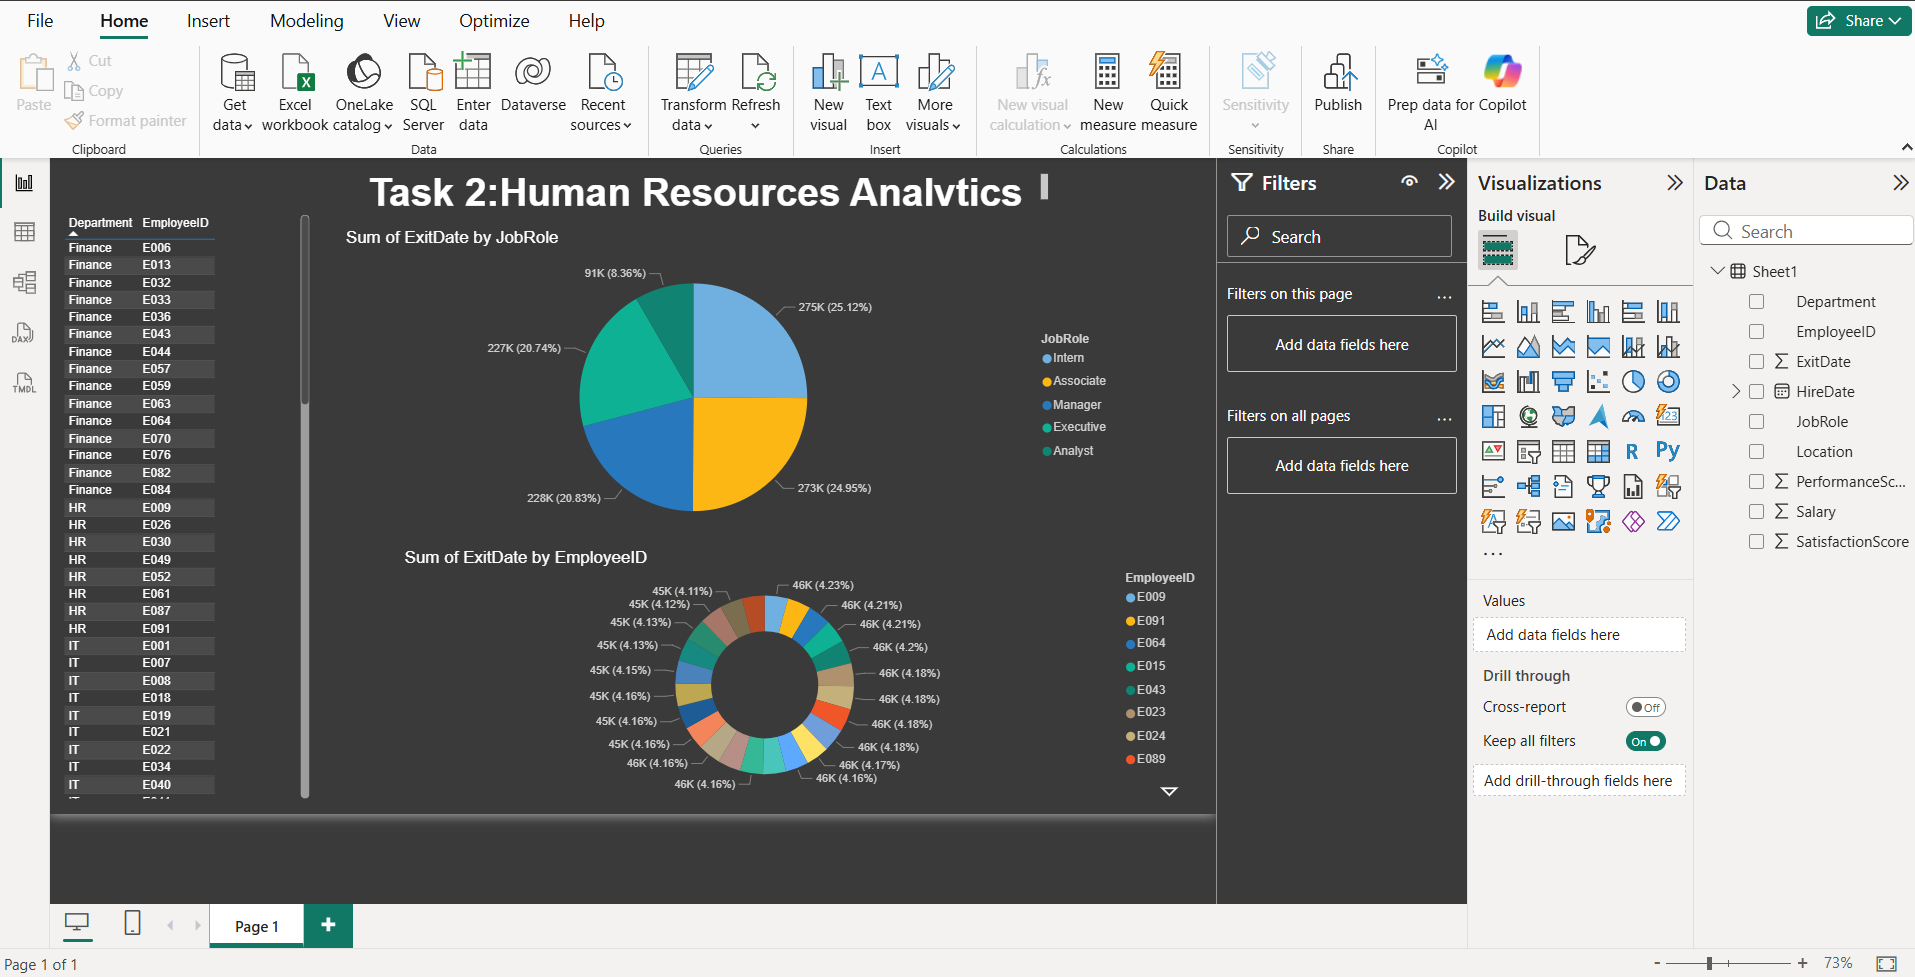

The dashboard page shown, as its layout file describes it:
{"tool":"powerbi","page":{"name":"Page 1","canvas":[1280,720],"ordinal":0},"visuals":[{"type":"tableEx","fields":{"Values":["Sheet1.Department","Sheet1.EmployeeID"]},"box":[9.6,57.6,279.9,650.4],"z":0},{"type":"pieChart","fields":{"Category":["Sheet1.JobRole"],"Y":["Sum(Sheet1.ExitDate)"]},"box":[319.7,76.8,853.5,351.3],"z":1},{"type":"donutChart","fields":{"Category":["Sheet1.EmployeeID"],"Y":["Sum(Sheet1.ExitDate)"]},"box":[384.2,428.1,896.1,279.9],"z":2},{"type":"textbox","box":[344.4,11,756.1,46.7],"z":3}]}

Visuals, with their boxes on the page's 1280x720 design canvas (x1, y1, x2, y2). These are canvas units, not pixel positions in the 1915x977 screenshot, which may show the page scaled, cropped or inside an application window:
tableEx - Sheet1.Department x Sheet1.EmployeeID: locate(10, 58, 290, 708)
pieChart - Sheet1.JobRole x Sum(Sheet1.ExitDate): locate(320, 77, 1173, 428)
donutChart - Sheet1.EmployeeID x Sum(Sheet1.ExitDate): locate(384, 428, 1280, 708)
textbox: locate(344, 11, 1100, 58)
